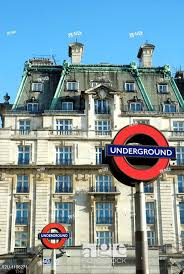London Underground: (107, 125, 175, 181), (38, 222, 66, 250)
